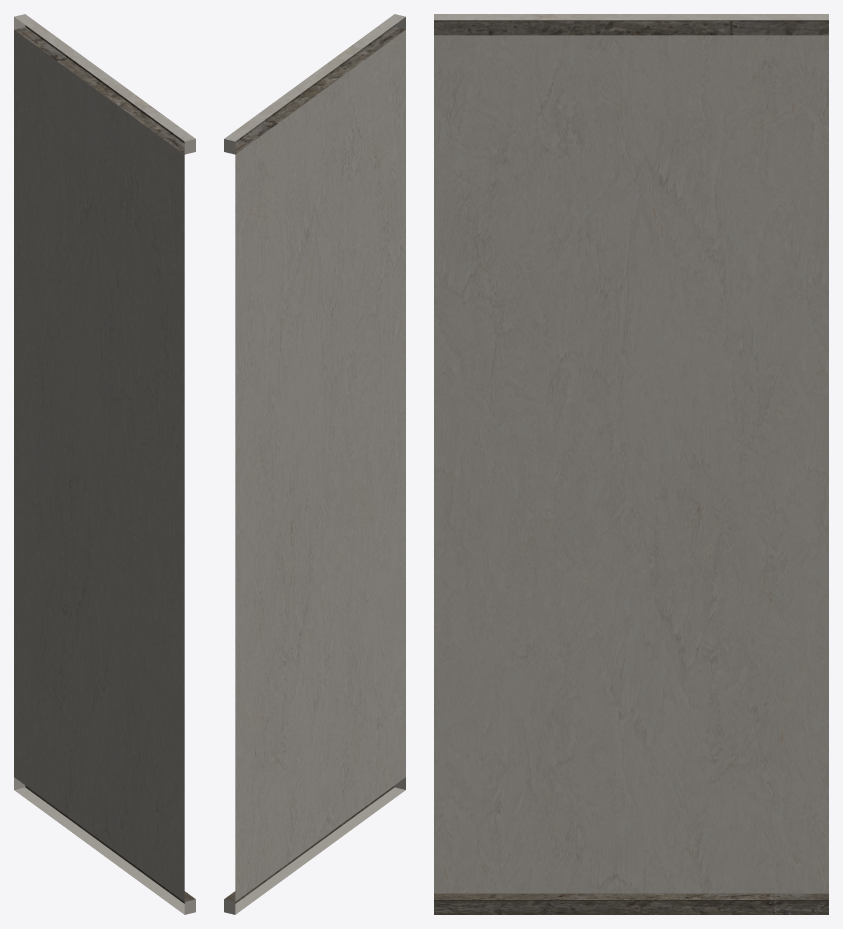
Rendered from Wall5.fbx.
3 renders of one model, left to right at view 1: azimuth 30°, elevation 25°; view 2: azimuth 150°, elevation 25°; view 3: azimuth 270°, elevation 25°, orthographic. The views are drawn at different scales.
Parts seen in each view (by area): view 1: Plaster Wall; view 2: Plaster Wall; view 3: Plaster Wall.
Boxes of the visible parts, x1,y1,x2,y2 form: Plaster Wall: (14,14,195,914); Plaster Wall: (224,14,405,914); Plaster Wall: (434,14,828,914).
Size of the model in its own units: 7.61 by 500 by 200.
